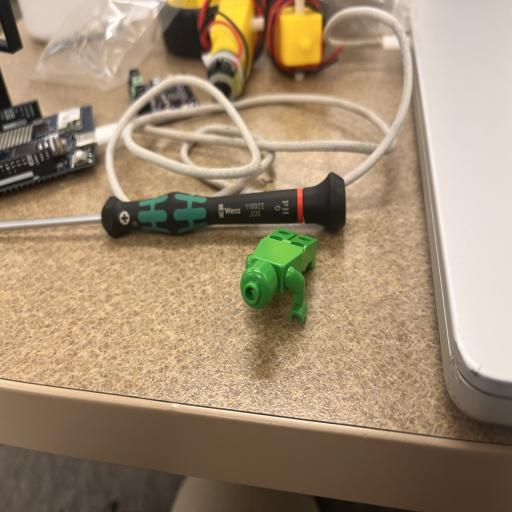Lego-Minifig: (240, 260, 278, 309)
